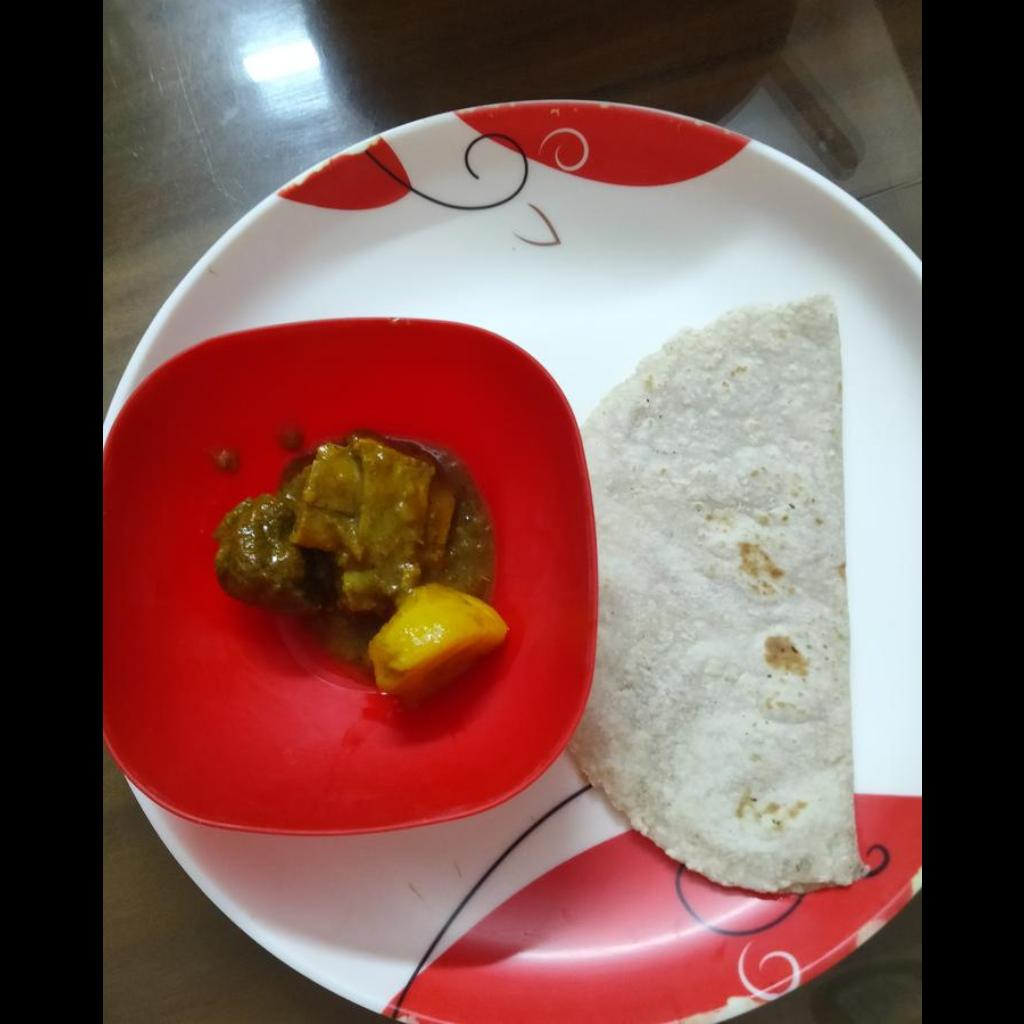beef: (214, 440, 459, 626)
potato: (367, 585, 506, 695)
ruti: (566, 294, 864, 890)
